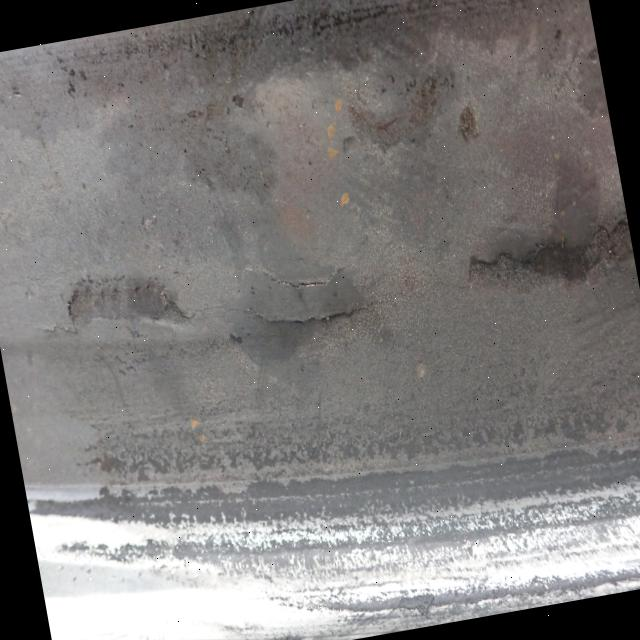Blue hole: (456, 106, 480, 146)
Contact_Fatigue_Cracks: (236, 251, 368, 334)
Peeling: (460, 218, 637, 299), (63, 259, 192, 347)
